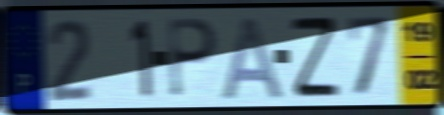1: (128, 18, 155, 100)
2: (44, 15, 95, 104)
7: (347, 13, 394, 99)
A: (216, 13, 287, 102)
P: (166, 16, 220, 101)
Z: (288, 14, 342, 100)
